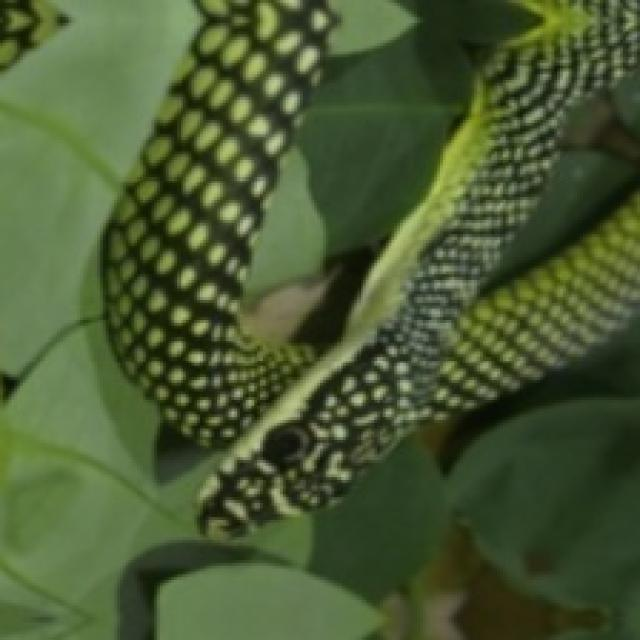paradise tree snake: (103, 0, 637, 534)
